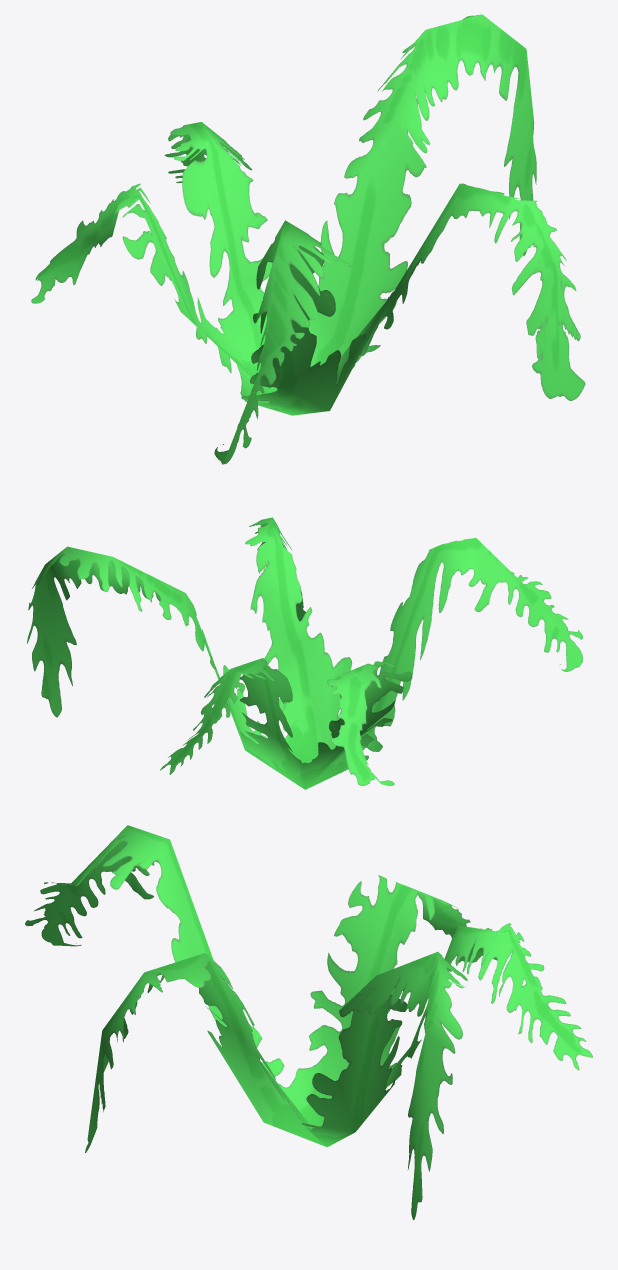
File: plant_fern.fbx
3 renders of one model, top to bottom at view 1: azimuth 30°, elevation 25°; view 2: azimuth 150°, elevation 25°; view 3: azimuth 270°, elevation 25°, orthographic. The views are drawn at different scales.
Visible parts, largest first — view 1: fern_plant; view 2: fern_plant; view 3: fern_plant.
Boxes of the visible parts, box(x1,y1,x2,y2) form: fern_plant: box(31, 14, 585, 464); fern_plant: box(27, 517, 582, 789); fern_plant: box(25, 825, 592, 1219).
Bounding box in the file's own units: 12.49 × 6.58 × 12.33.
